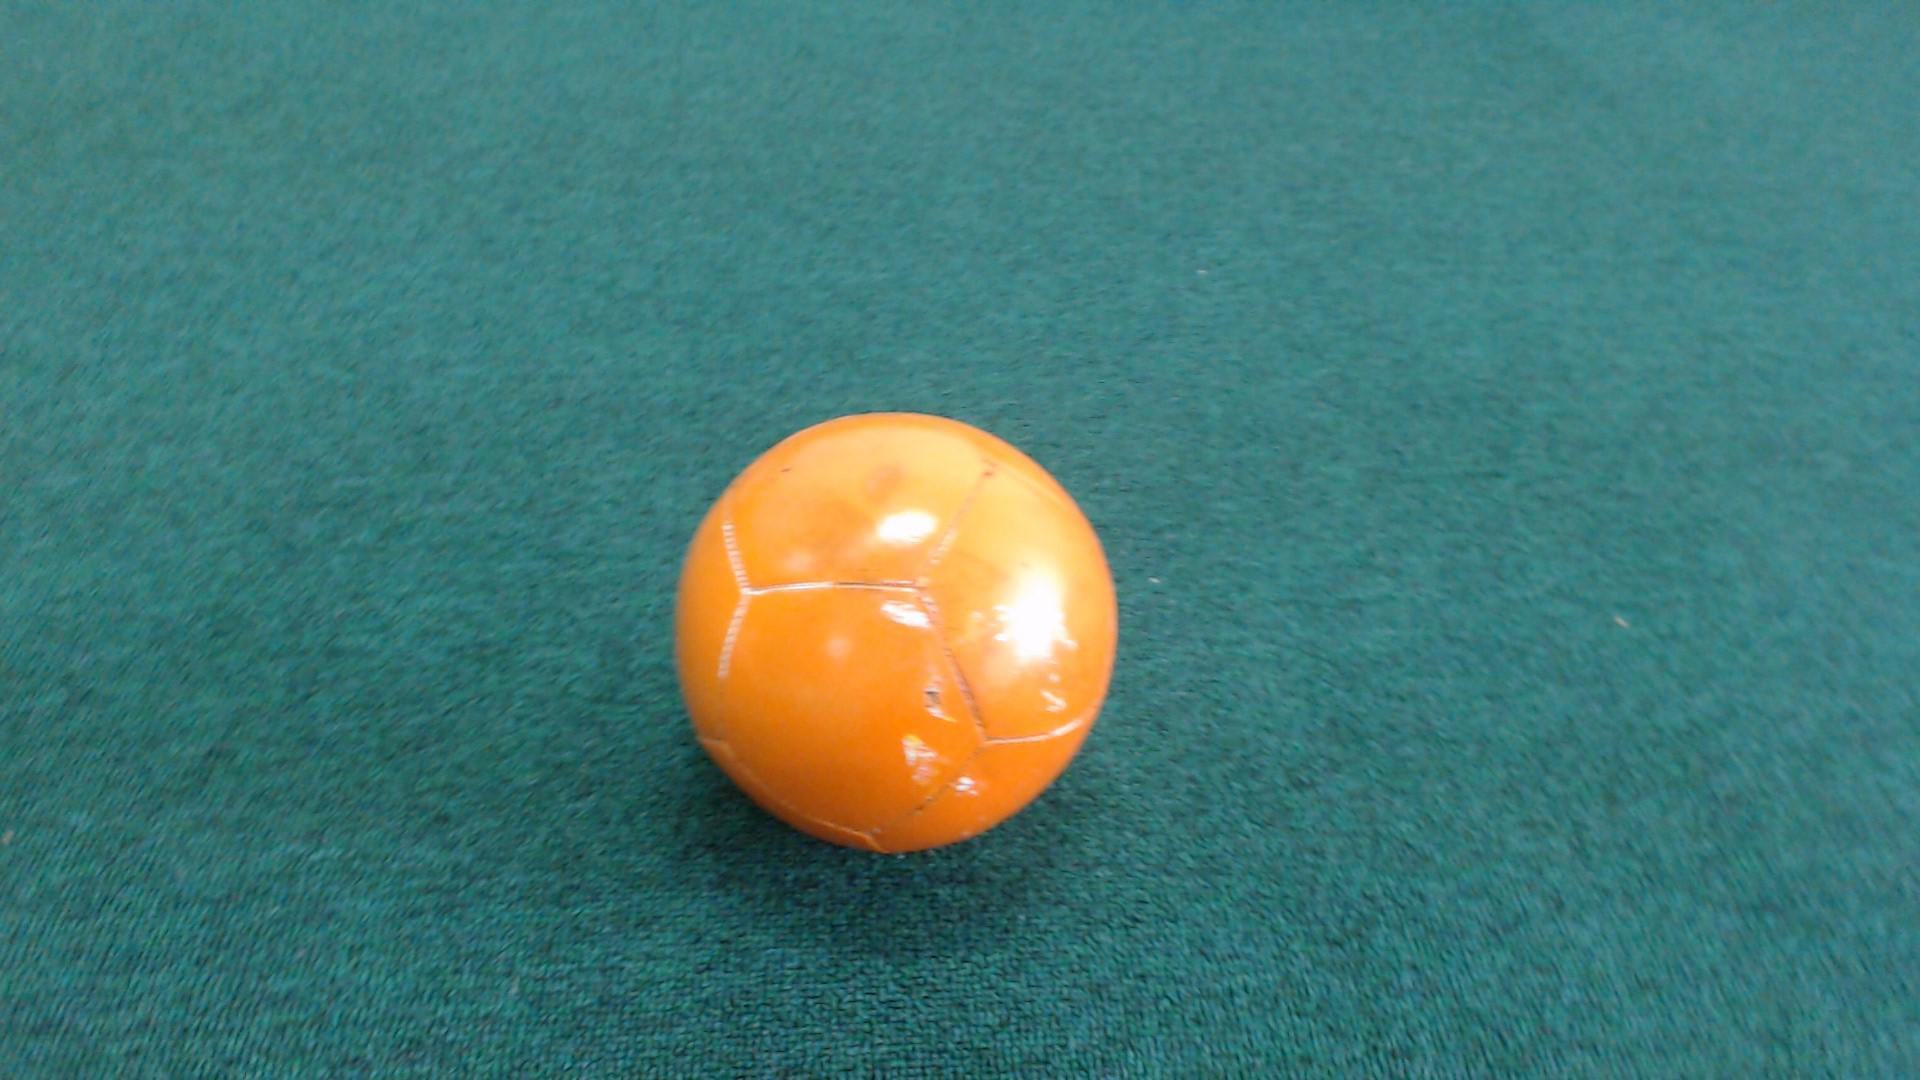bola: (628, 372, 1200, 922)
